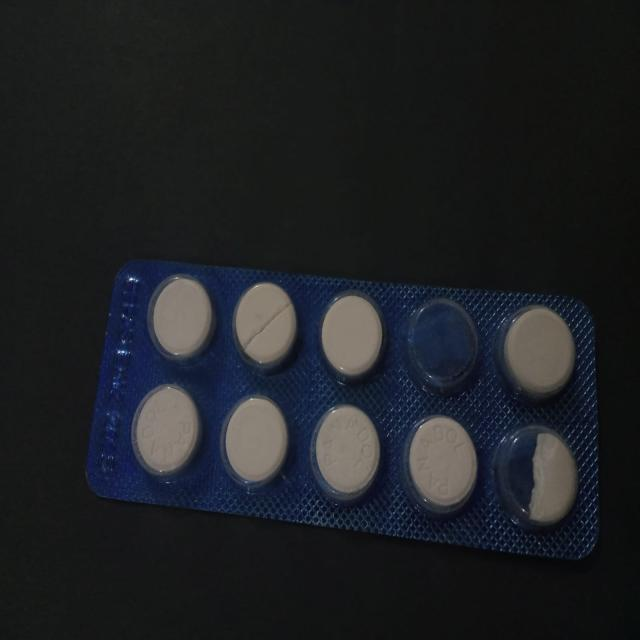defect: (492, 422, 581, 536), (403, 293, 483, 401), (230, 278, 302, 374)
